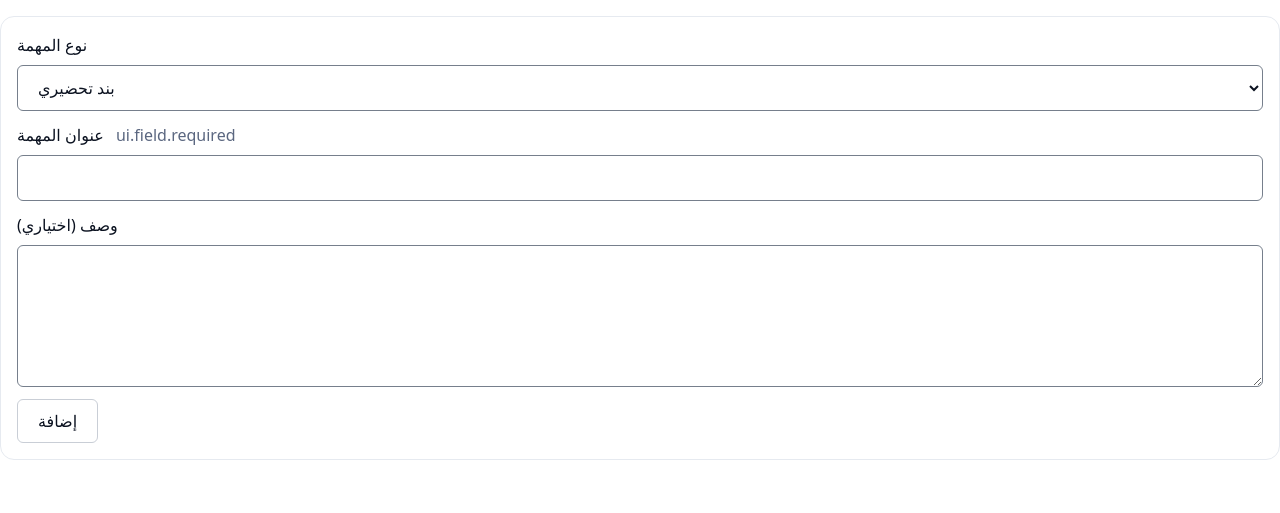
Scenario: CreateTaskForm › submitting with an empty title reaches the action and shows the app's own failure, not silence
Click the button "إضافة": [58, 421] box [17,399,98,443]
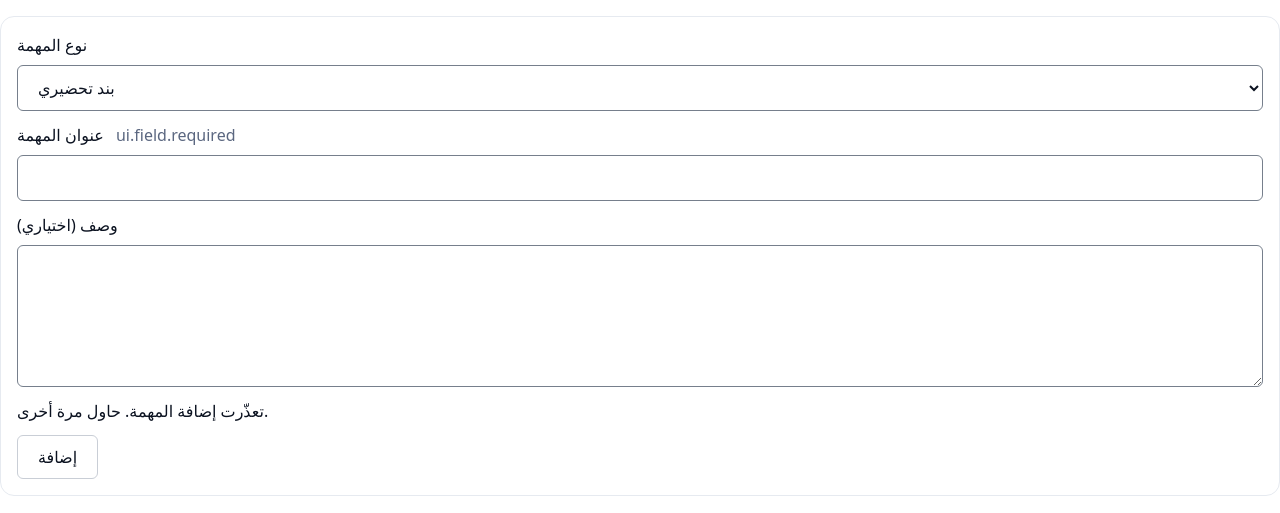
Expected: the text "تعذّرت إضافة المهمة. حاول مرة أخرى." is shown, [17,400,268,422]
